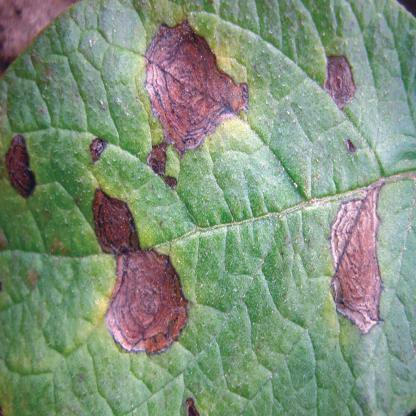Potato leaf early blight: (0, 1, 416, 409)
